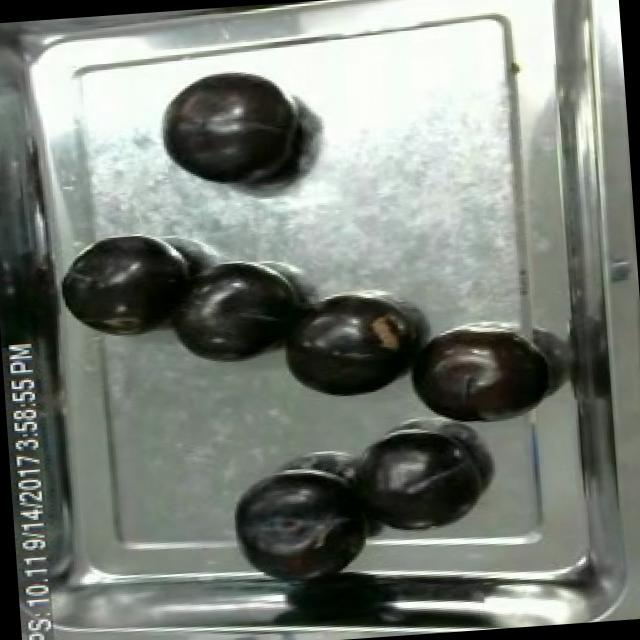Fruit: (157, 64, 310, 194), (53, 227, 199, 346), (160, 258, 306, 368), (400, 321, 548, 428), (224, 461, 376, 565), (274, 296, 415, 405), (358, 421, 489, 537)
